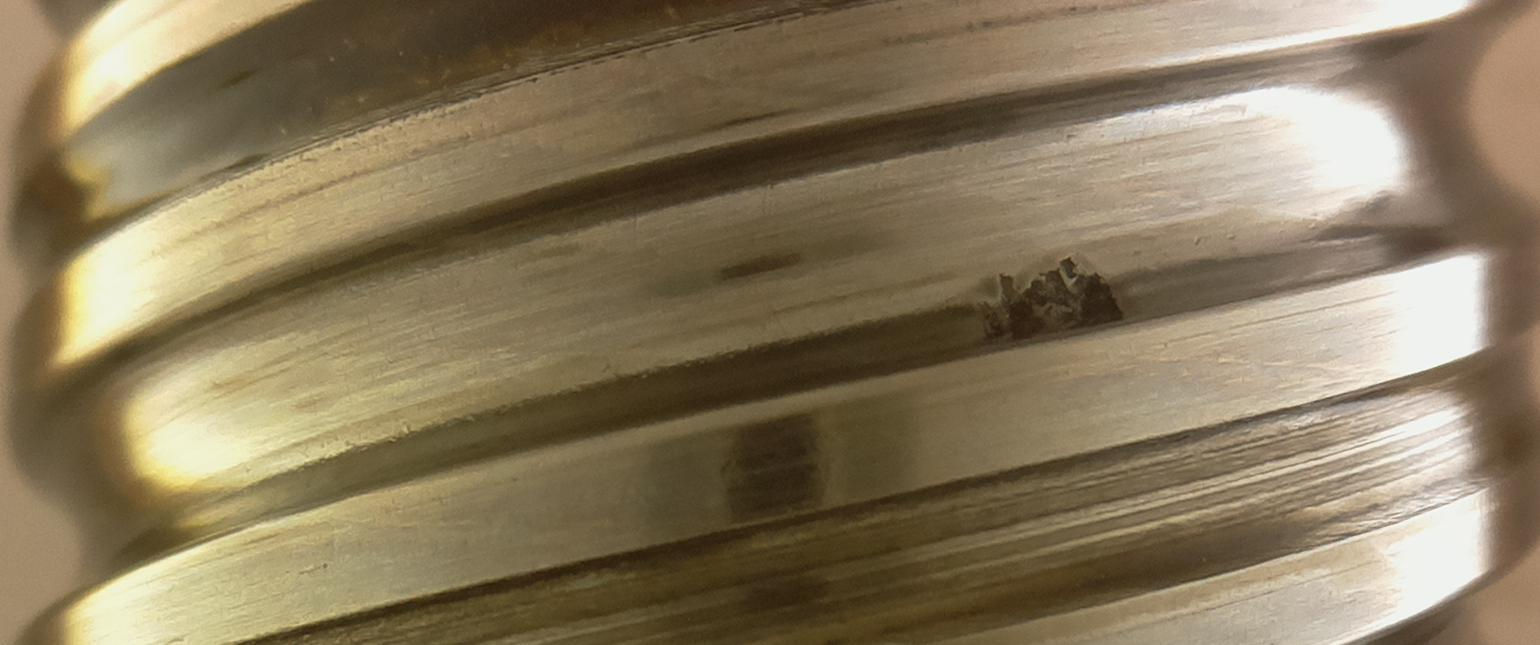pitting: (984, 257, 1121, 339)
